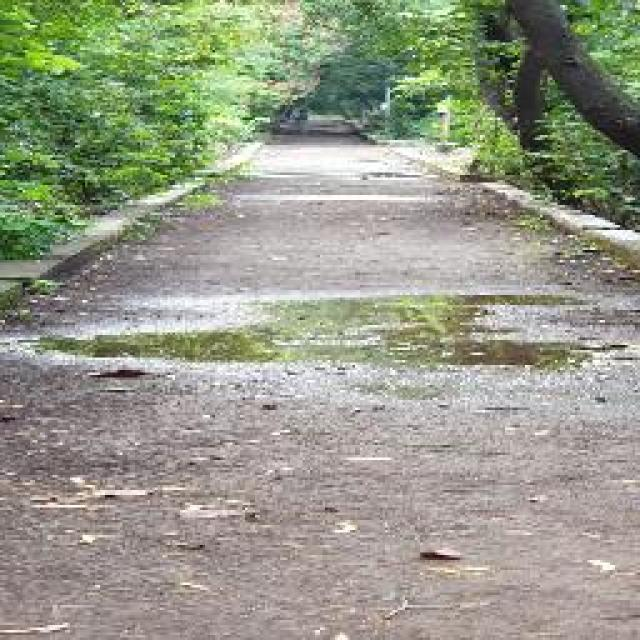puddle: (24, 293, 574, 369)
